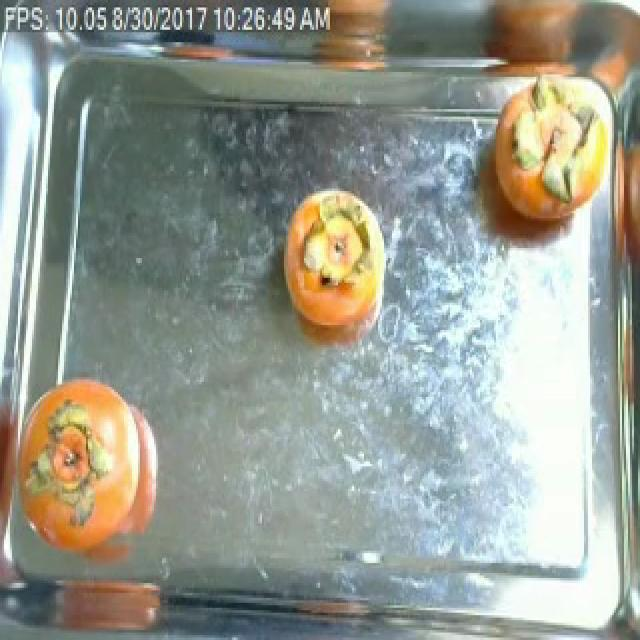Fruit: (266, 173, 402, 364), (44, 563, 176, 638)
